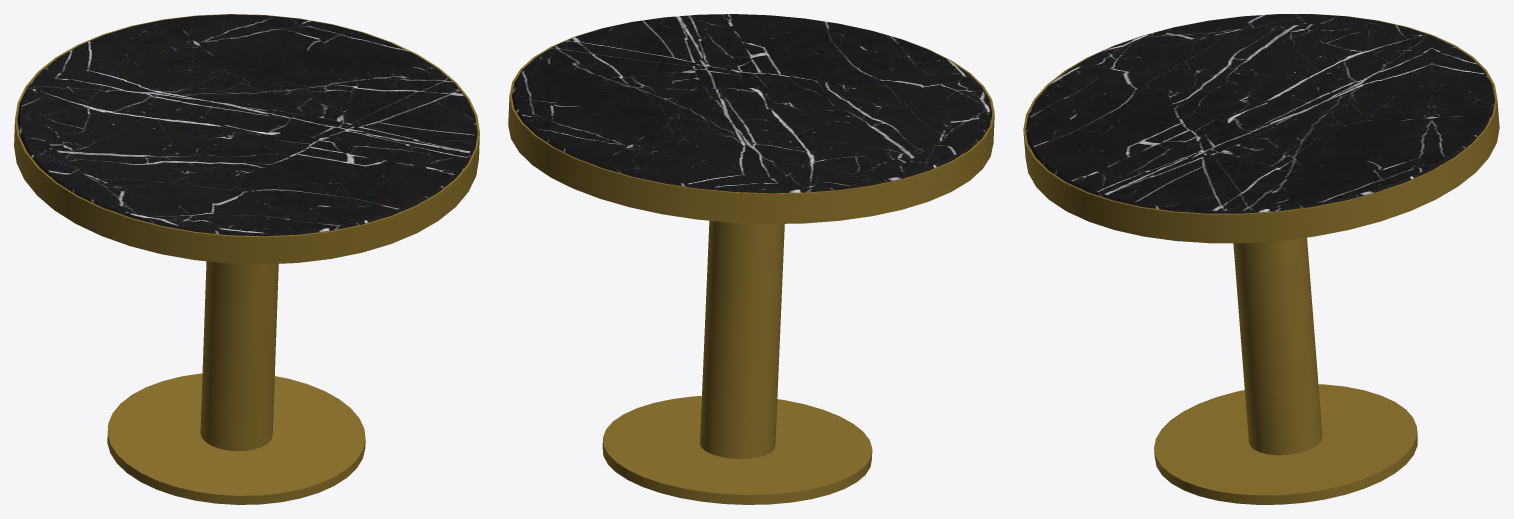
Rendered from side_table_marble.glb.
3 renders of one model, left to right at view 1: azimuth 30°, elevation 25°; view 2: azimuth 150°, elevation 25°; view 3: azimuth 270°, elevation 25°, orthographic. The views are drawn at different scales.
Parts seen in each view (by area): view 1: Object_3, Object_4; view 2: Object_3, Object_4; view 3: Object_3, Object_4.
Part boxes in pixels (<box>): Object_3: <box>17,14,477,236</box>; Object_4: <box>14,14,479,504</box>; Object_3: <box>512,14,991,193</box>; Object_4: <box>508,22,994,504</box>; Object_3: <box>1026,14,1494,213</box>; Object_4: <box>1023,14,1499,504</box>.
Size of the model in its own units: 0.5234 by 0.4419 by 0.5259.
Materials: 4 (1 with a texture image).
